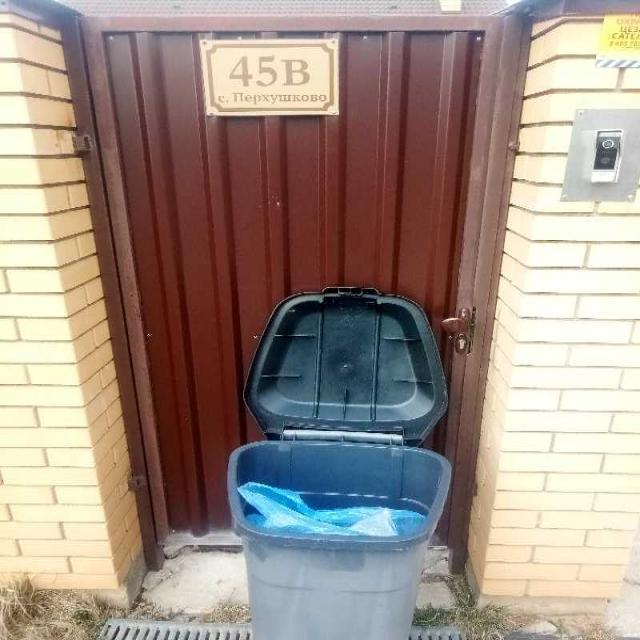Dumpster: (230, 284, 451, 640)
